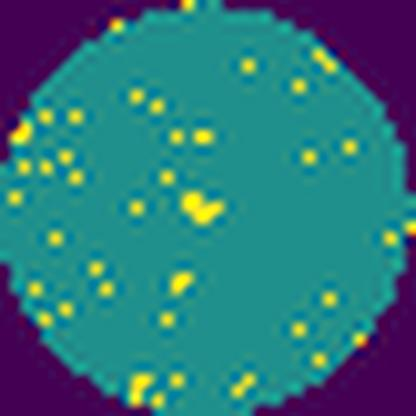Center: (181, 190, 227, 228)
